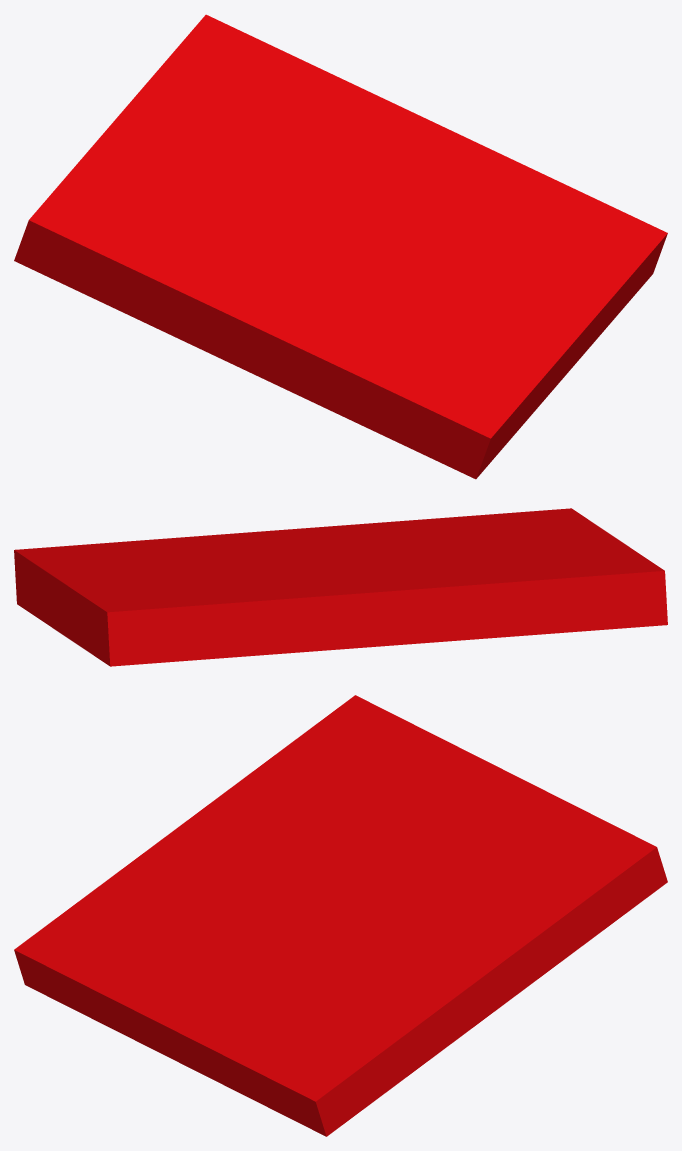
Rendered from redPaper.fbx.
3 views of the same model, one above another, from view 1: azimuth 30°, elevation 25°; view 2: azimuth 150°, elevation 25°; view 3: azimuth 270°, elevation 25° (orthographic). The views are drawn at different scales.
Visible parts, largest first — view 1: Paper; view 2: Paper; view 3: Paper.
Part boxes in pixels (box(x1,y1,x2,y2)): Paper: box(14, 14, 667, 479); Paper: box(14, 508, 667, 666); Paper: box(14, 695, 667, 1136).
Bounding box in the file's own units: 0.746 × 0.217 × 0.7447.
